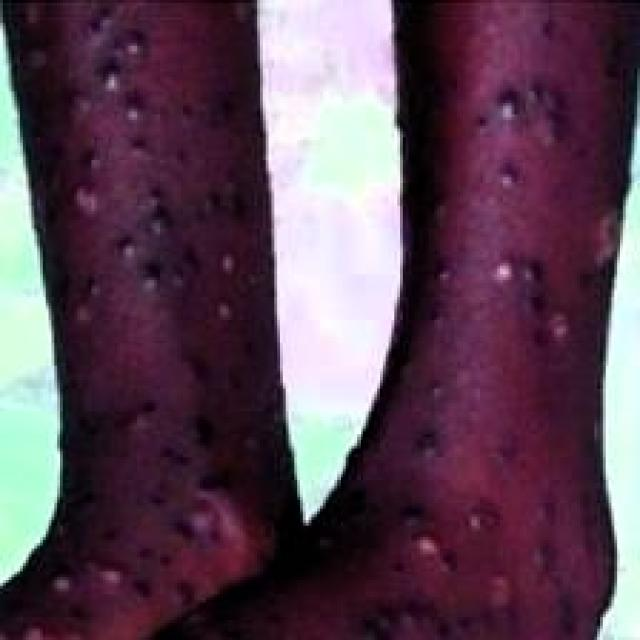monkeypox: (8, 0, 621, 640)
